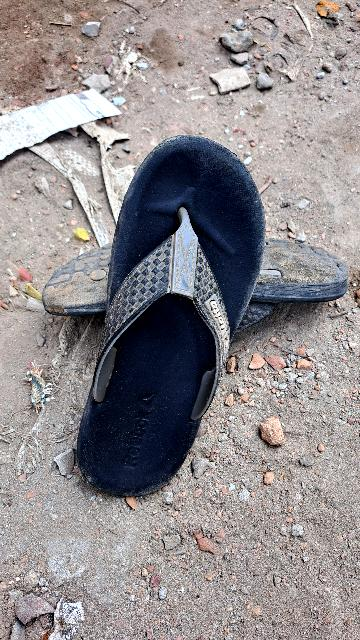sandal: (34, 122, 296, 504), (44, 208, 343, 317)
